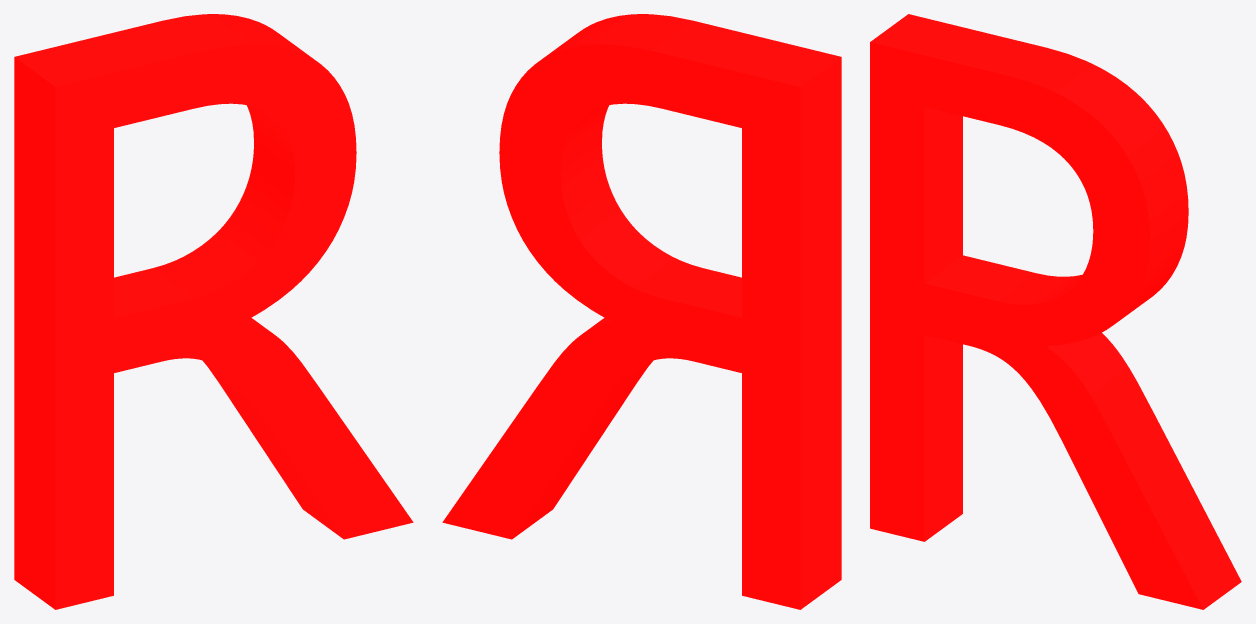
3 views of the same model, side by side, from view 1: azimuth 30°, elevation 25°; view 2: azimuth 150°, elevation 25°; view 3: azimuth 330°, elevation 25° (orthographic). The views are drawn at different scales.
Visible parts, largest first — view 1: MoText_1; view 2: MoText_1; view 3: MoText_1.
Boxes of the visible parts, x1,y1,x2,y2 form: MoText_1: (14, 14, 413, 609); MoText_1: (442, 14, 841, 609); MoText_1: (870, 14, 1241, 609).
Size of the model in its own units: 100 by 140 by 20.
